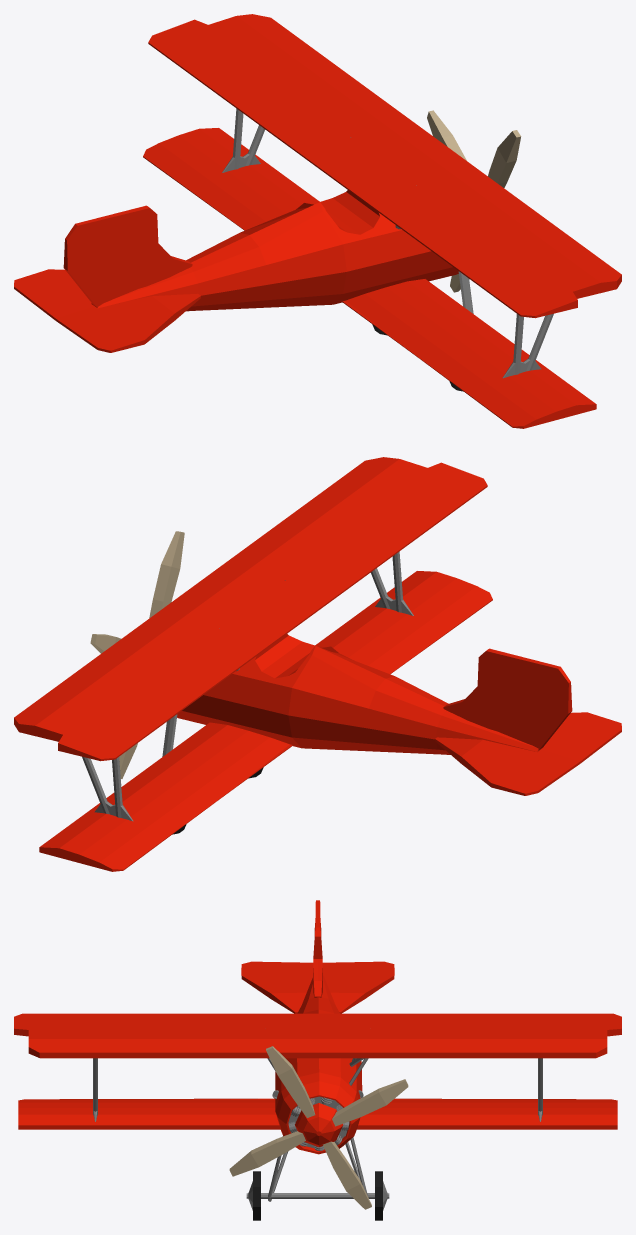
3 views of the same model, one above another, from view 1: azimuth 30°, elevation 25°; view 2: azimuth 150°, elevation 25°; view 3: azimuth 270°, elevation 25° (orthographic). The views are drawn at different scales.
Parts seen in each view (by area): view 1: plane_2, fuselage_1, Cylinder_0; view 2: plane_2, fuselage_1, Cylinder_0; view 3: plane_2, Cylinder_0, fuselage_1.
Boxes of the visible parts, x1,y1,x2,y2 form: plane_2: (14, 14, 621, 428); fuselage_1: (91, 190, 458, 311); Cylinder_0: (427, 110, 521, 292); plane_2: (14, 457, 621, 871); fuselage_1: (177, 634, 543, 754); Cylinder_0: (90, 531, 184, 778); plane_2: (14, 900, 621, 1220); Cylinder_0: (229, 1046, 408, 1209); fuselage_1: (275, 975, 362, 1154).
Bounding box in the file's own units: 5.66 × 2.95 × 8.44.
